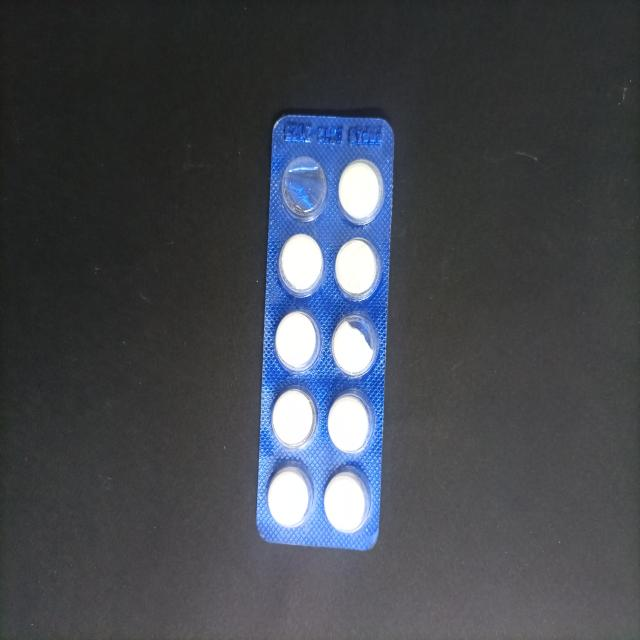defect: (330, 309, 381, 380), (280, 154, 329, 226)
